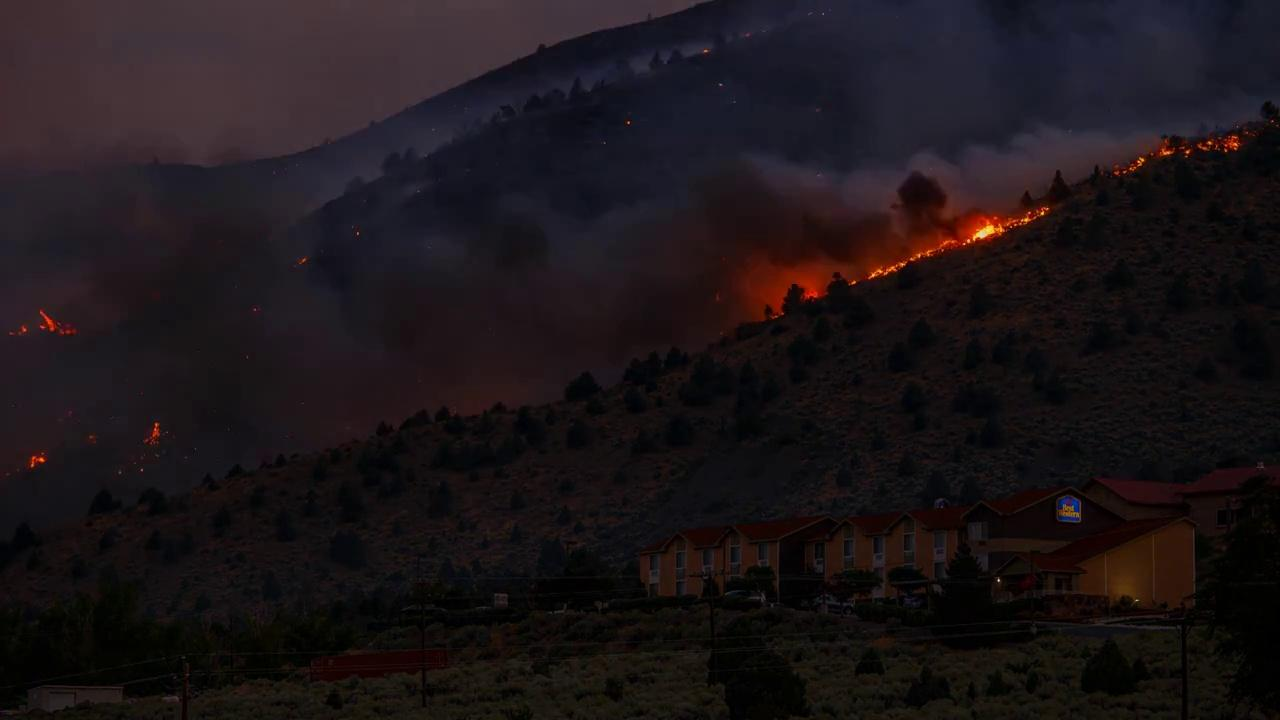fire: (922, 210, 1016, 248)
